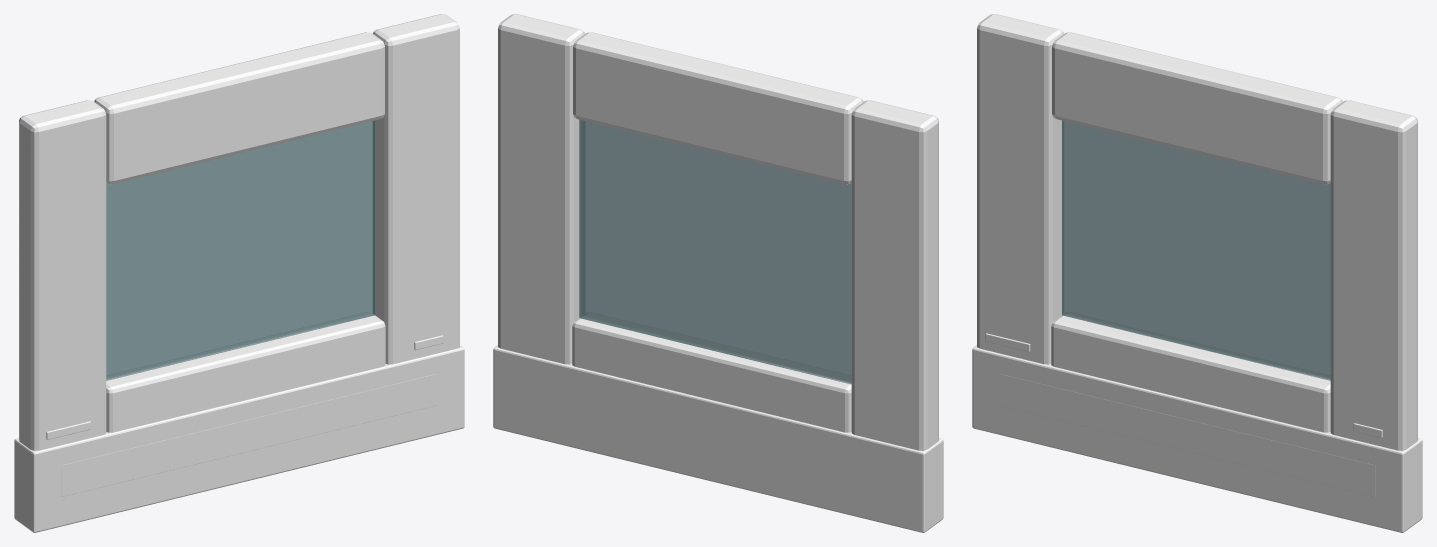
Rendered from SM_FC01_Wall_Window_A.glb.
The picture shows the model from 3 angles, left to right: view 1: azimuth 30°, elevation 25°; view 2: azimuth 150°, elevation 25°; view 3: azimuth 330°, elevation 25°; orthographic projection.
Parts seen in each view (by area): view 1: SM_FC01_Wall_Window_A_Glass, SM_FC01_Wall_Window_A_L, SM_FC01_Wall_Window_A_R, SM_FC01_Wall_Window_A_Top, SM_FC01_Wall_Window_A_WetBand, SM_FC01_Wall_Window_A_Sill, SM_FC01_Wall_Window_A_AlgaeBand; view 2: SM_FC01_Wall_Window_A_Glass, SM_FC01_Wall_Window_A_WetBand, SM_FC01_Wall_Window_A_L, SM_FC01_Wall_Window_A_R, SM_FC01_Wall_Window_A_Top, SM_FC01_Wall_Window_A_Sill; view 3: SM_FC01_Wall_Window_A_Glass, SM_FC01_Wall_Window_A_R, SM_FC01_Wall_Window_A_L, SM_FC01_Wall_Window_A_Top, SM_FC01_Wall_Window_A_WetBand, SM_FC01_Wall_Window_A_Sill, SM_FC01_Wall_Window_A_AlgaeBand.
Part boxes in pixels (<box>): SM_FC01_Wall_Window_A_Glass: <box>106,120,374,380</box>; SM_FC01_Wall_Window_A_L: <box>19,100,106,450</box>; SM_FC01_Wall_Window_A_R: <box>373,14,459,364</box>; SM_FC01_Wall_Window_A_Top: <box>94,32,384,184</box>; SM_FC01_Wall_Window_A_WetBand: <box>14,345,464,532</box>; SM_FC01_Wall_Window_A_Sill: <box>106,312,385,432</box>; SM_FC01_Wall_Window_A_AlgaeBand: <box>61,374,437,496</box>; SM_FC01_Wall_Window_A_Glass: <box>579,119,851,384</box>; SM_FC01_Wall_Window_A_WetBand: <box>493,345,943,532</box>; SM_FC01_Wall_Window_A_L: <box>851,100,938,450</box>; SM_FC01_Wall_Window_A_R: <box>498,14,584,364</box>; SM_FC01_Wall_Window_A_Top: <box>573,32,863,184</box>; SM_FC01_Wall_Window_A_Sill: <box>572,312,851,432</box>; SM_FC01_Wall_Window_A_Glass: <box>1062,120,1330,380</box>; SM_FC01_Wall_Window_A_R: <box>1330,100,1417,450</box>; SM_FC01_Wall_Window_A_L: <box>977,14,1063,364</box>; SM_FC01_Wall_Window_A_Top: <box>1052,32,1342,184</box>; SM_FC01_Wall_Window_A_WetBand: <box>972,345,1422,532</box>; SM_FC01_Wall_Window_A_Sill: <box>1051,312,1330,432</box>; SM_FC01_Wall_Window_A_AlgaeBand: <box>999,374,1375,496</box>.
Size of the model in its own units: 4.03 by 3.61 by 0.3256.
